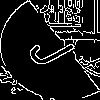J: (25, 25, 87, 71)
